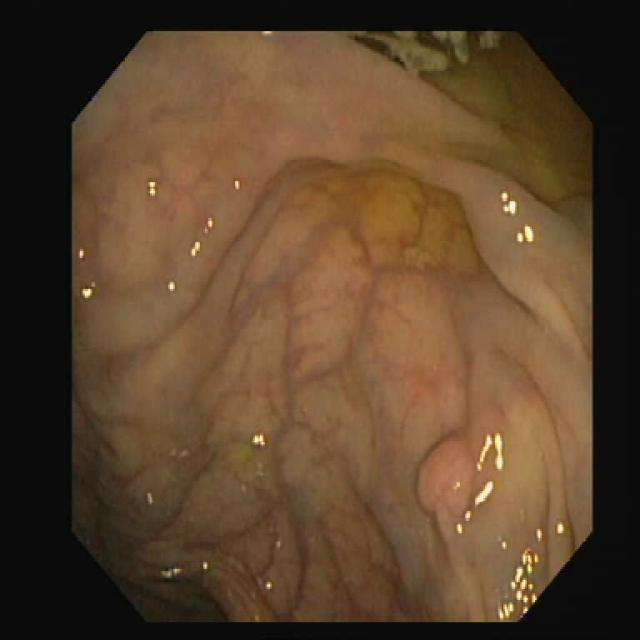tumor: (418, 427, 482, 522)
